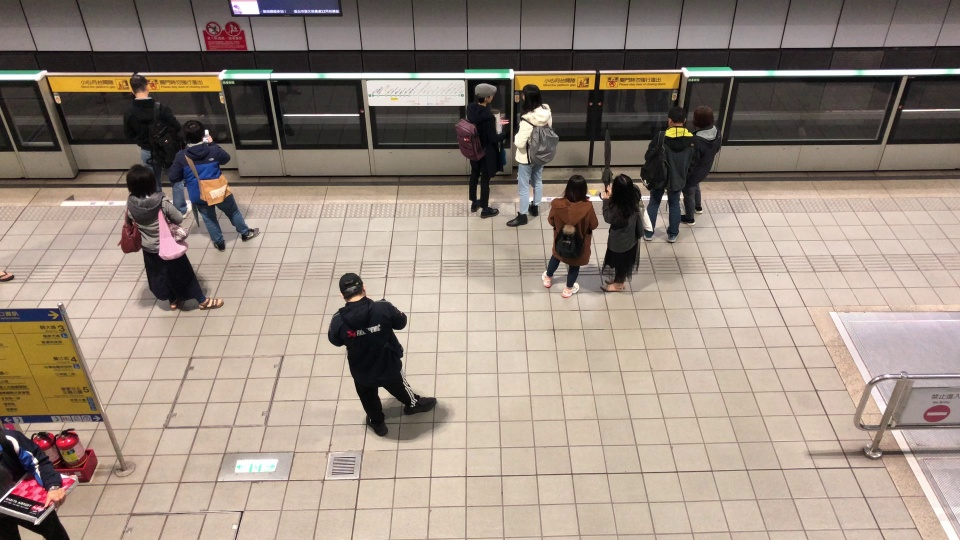person_head: (123, 161, 159, 199), (338, 270, 367, 301), (564, 173, 588, 202), (181, 119, 206, 143), (691, 105, 715, 130), (611, 172, 634, 197), (474, 83, 498, 105), (129, 74, 150, 99), (666, 105, 687, 127), (522, 83, 540, 107)
person_vbox: (327, 272, 436, 437), (117, 163, 223, 310), (166, 117, 260, 251), (123, 76, 192, 219), (598, 123, 653, 292), (2, 425, 78, 540), (641, 104, 698, 243), (453, 83, 510, 218), (506, 83, 559, 226), (541, 174, 598, 298), (679, 105, 721, 225)
